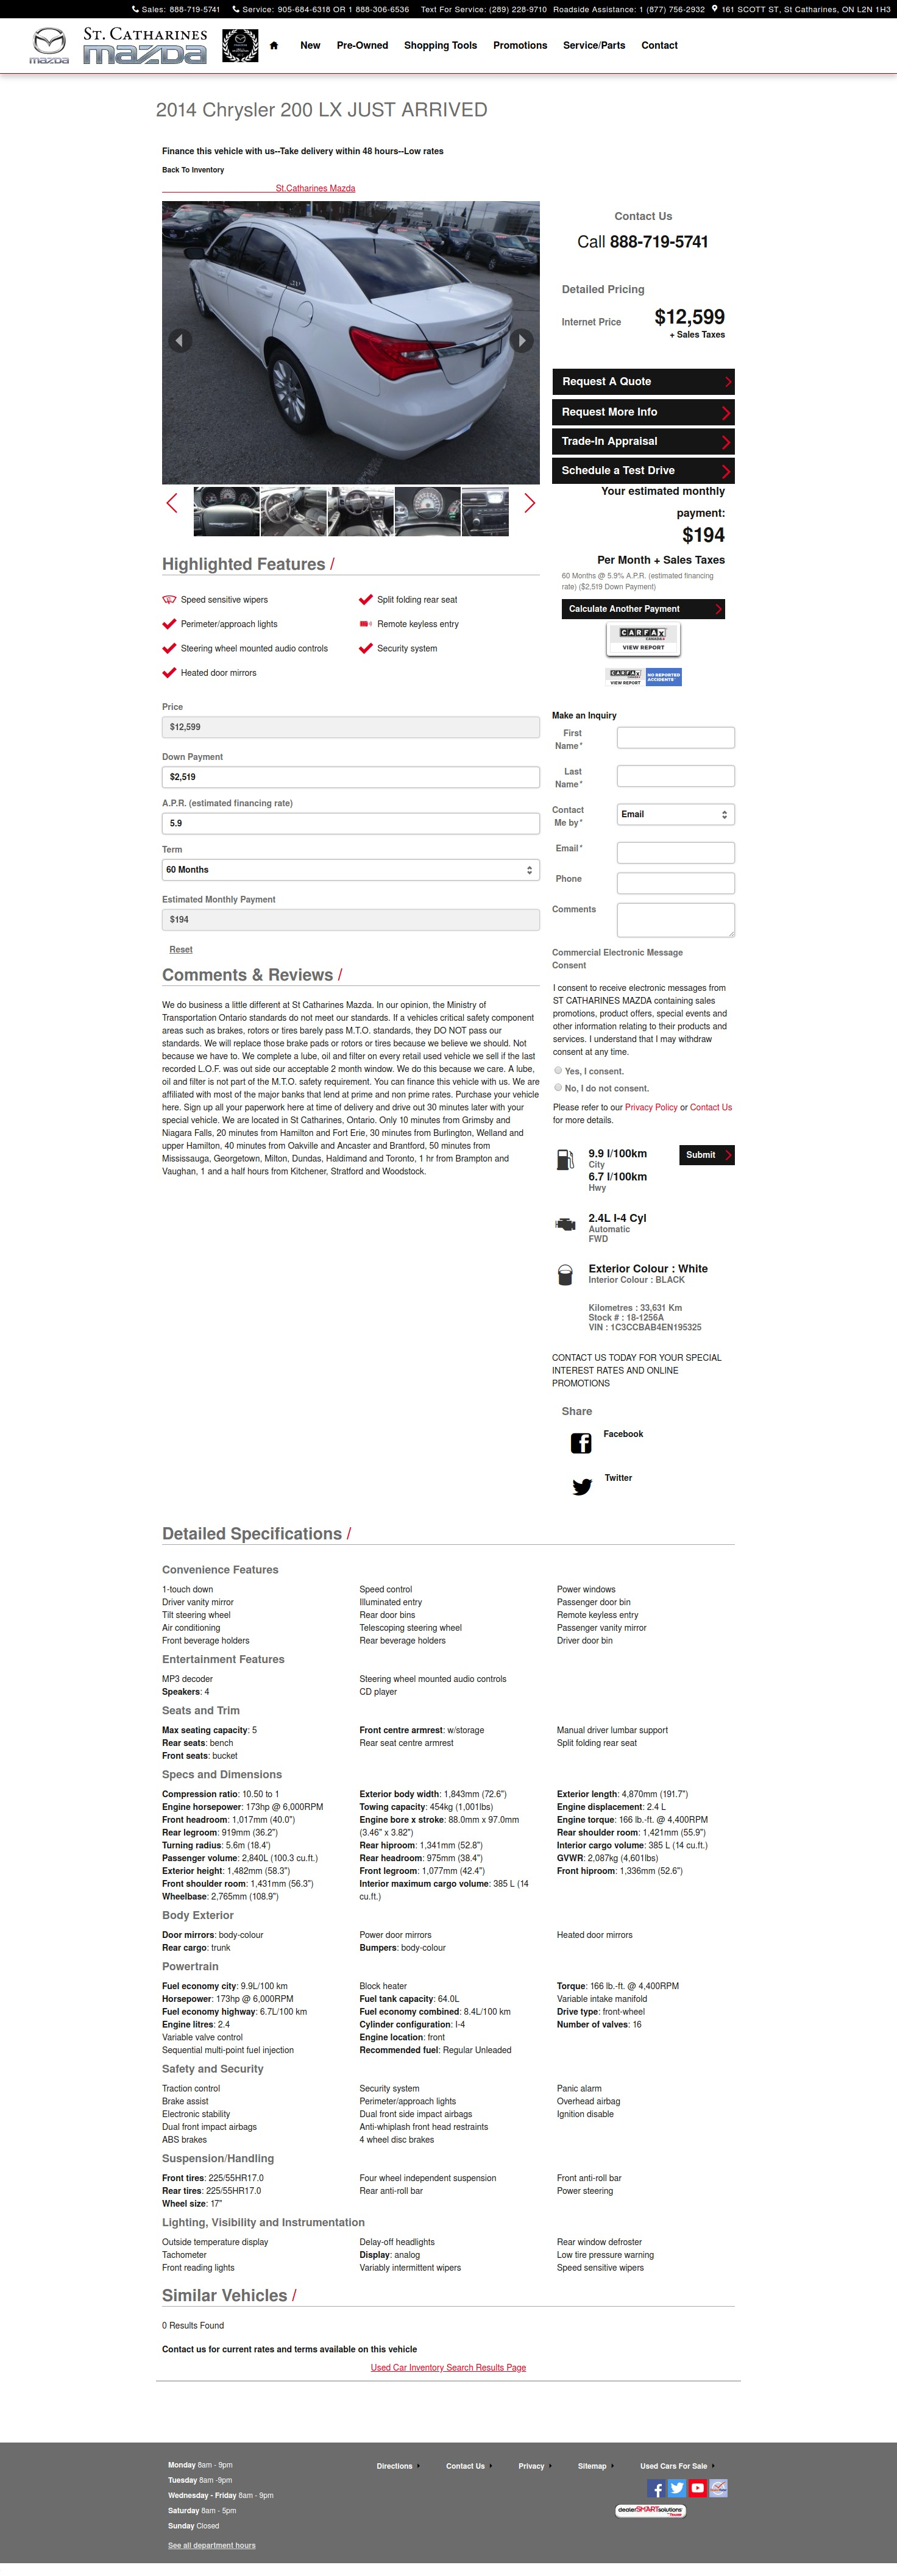car: (522, 493, 537, 514)
